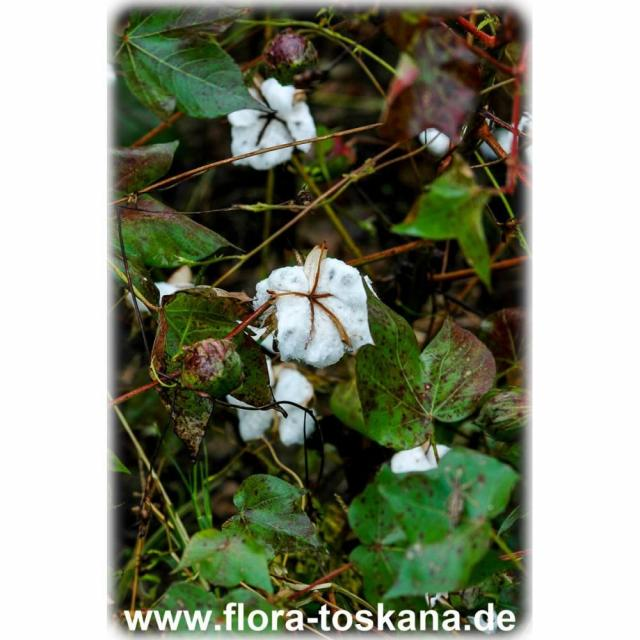Early_blight: (244, 248, 384, 376), (216, 75, 326, 178)
